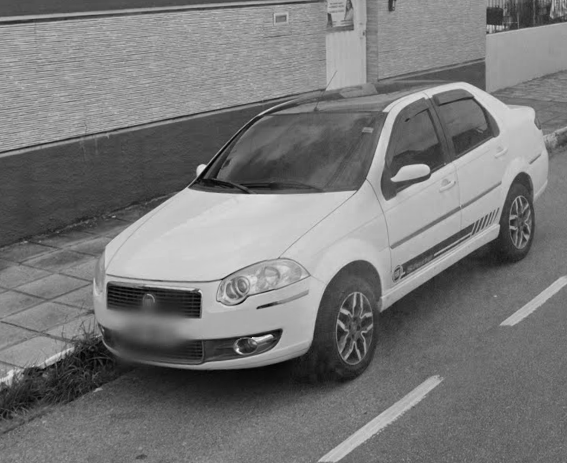car: (91, 68, 549, 382)
